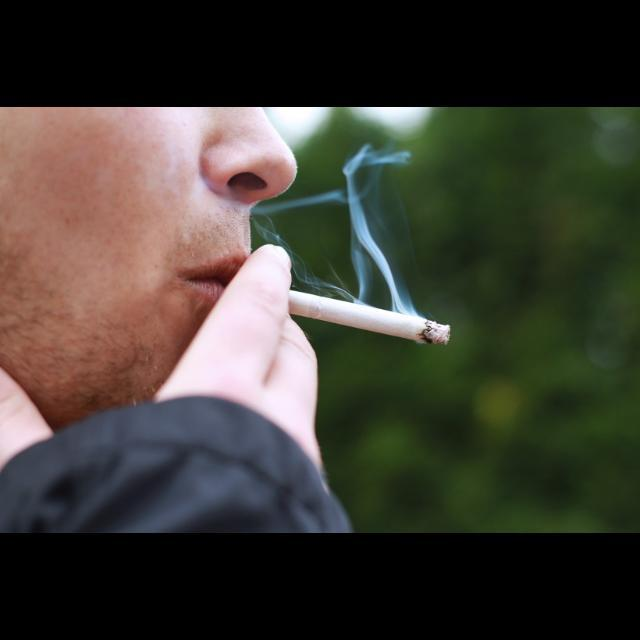rokok: (280, 276, 460, 356)
